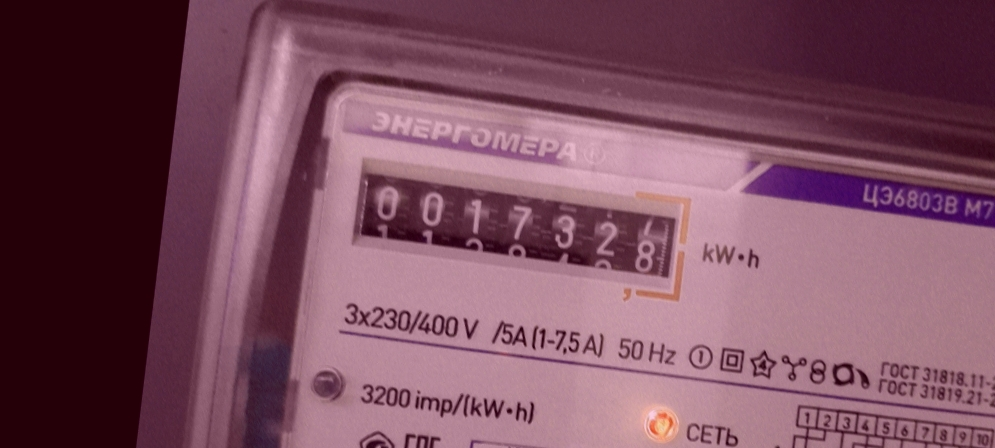0: (371, 181, 401, 223), (418, 188, 445, 228)
1: (462, 194, 485, 236)
2: (592, 218, 619, 257)
3: (551, 212, 577, 250)
7: (506, 202, 533, 243)
8: (632, 236, 655, 273)
screen: (337, 153, 701, 310)
